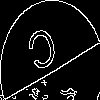C: (25, 25, 62, 81)
